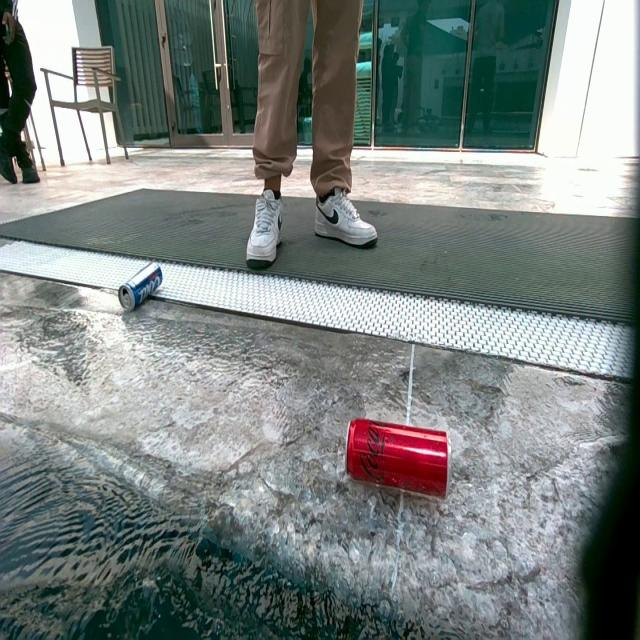Cans: (341, 417, 448, 501), (118, 260, 164, 314)
